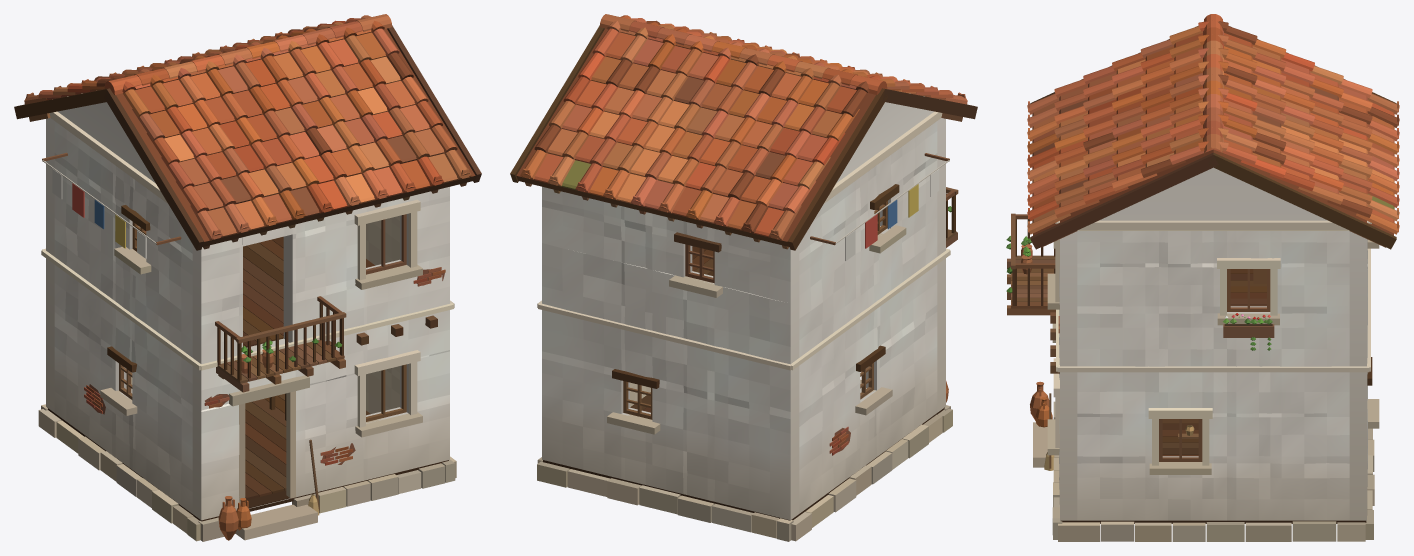
File: pleb_1_2.glb
The picture shows the model from 3 angles, left to right: view 1: azimuth 30°, elevation 25°; view 2: azimuth 150°, elevation 25°; view 3: azimuth 270°, elevation 25°; orthographic projection.
Visible parts, largest first — view 1: House, Walls, Rooms; view 2: Walls, House, Rooms; view 3: Walls, House, Rooms.
Part boxes in pixels (x1,y1,x2,y2): House: [14, 14, 481, 541]; Walls: [46, 102, 449, 520]; Rooms: [131, 215, 399, 499]; Walls: [542, 102, 945, 520]; House: [510, 14, 977, 541]; Rooms: [630, 246, 713, 412]; Walls: [1059, 167, 1367, 520]; House: [1006, 14, 1399, 541]; Rooms: [1162, 269, 1266, 456].
Bounding box in the file's own units: 4.22 × 5.58 × 5.
Materials: 5 (5 with a texture image).
